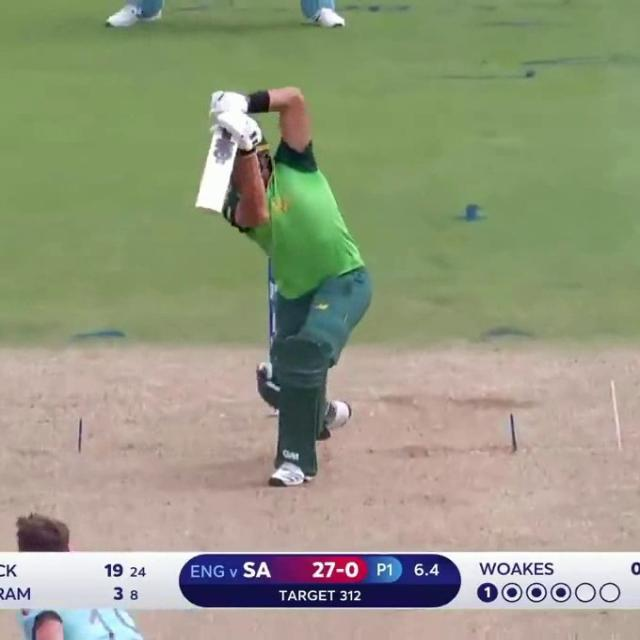bat: (192, 130, 243, 216)
toe: (194, 202, 223, 215)
